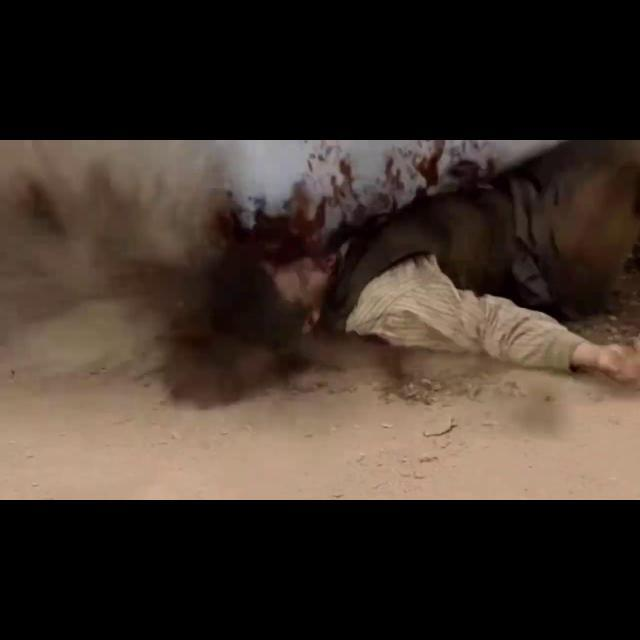blood: (210, 140, 526, 350), (23, 182, 65, 236)
